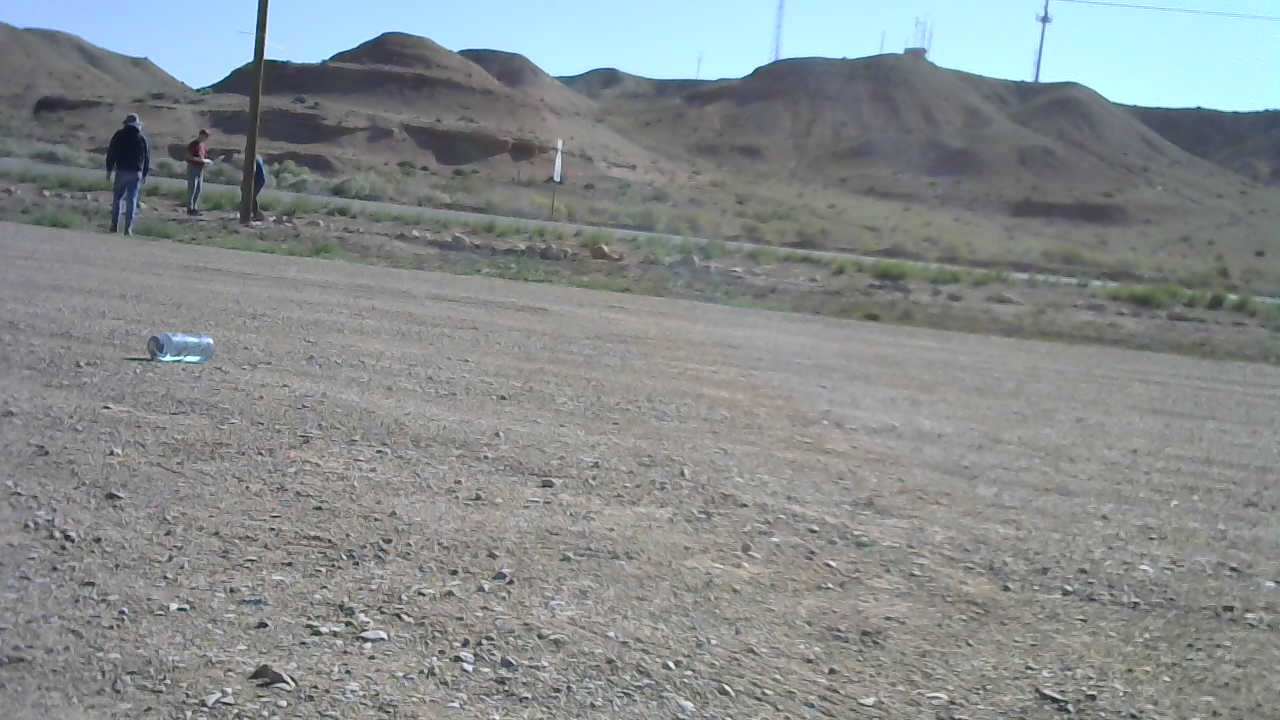bottle: (140, 321, 219, 361)
